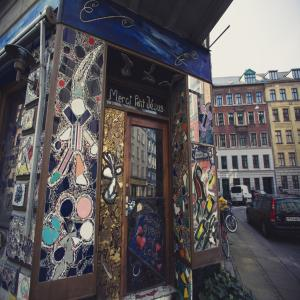Vehicle-registration-plate: (287, 218, 300, 223)
